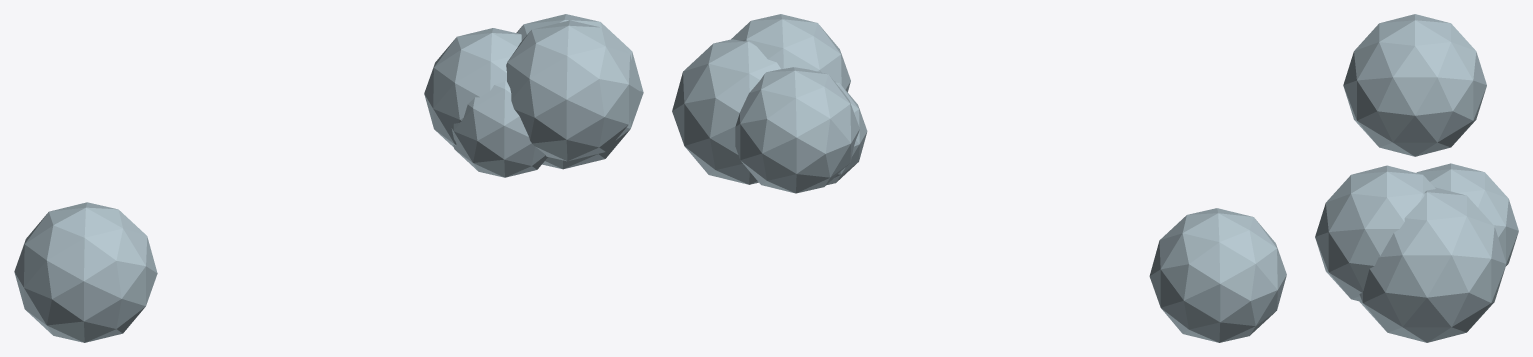
The model's file is bubbles.glb.
The picture shows the model from 3 angles, left to right: view 1: azimuth 30°, elevation 25°; view 2: azimuth 150°, elevation 25°; view 3: azimuth 270°, elevation 25°; orthographic projection. The views are drawn at different scales.
Visible parts, largest first — view 1: world; view 2: world; view 3: world.
Part boxes in pixels (<box>): world: <box>14,14,643,342</box>; world: <box>672,14,1286,342</box>; world: <box>1315,14,1518,342</box>.
Size of the model in its own units: 0.5945 by 0.1918 by 0.1701.
